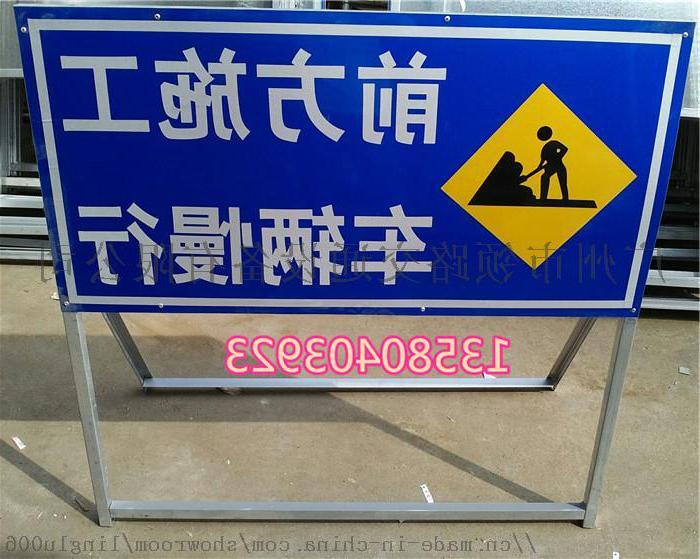sign: (24, 16, 686, 316)
